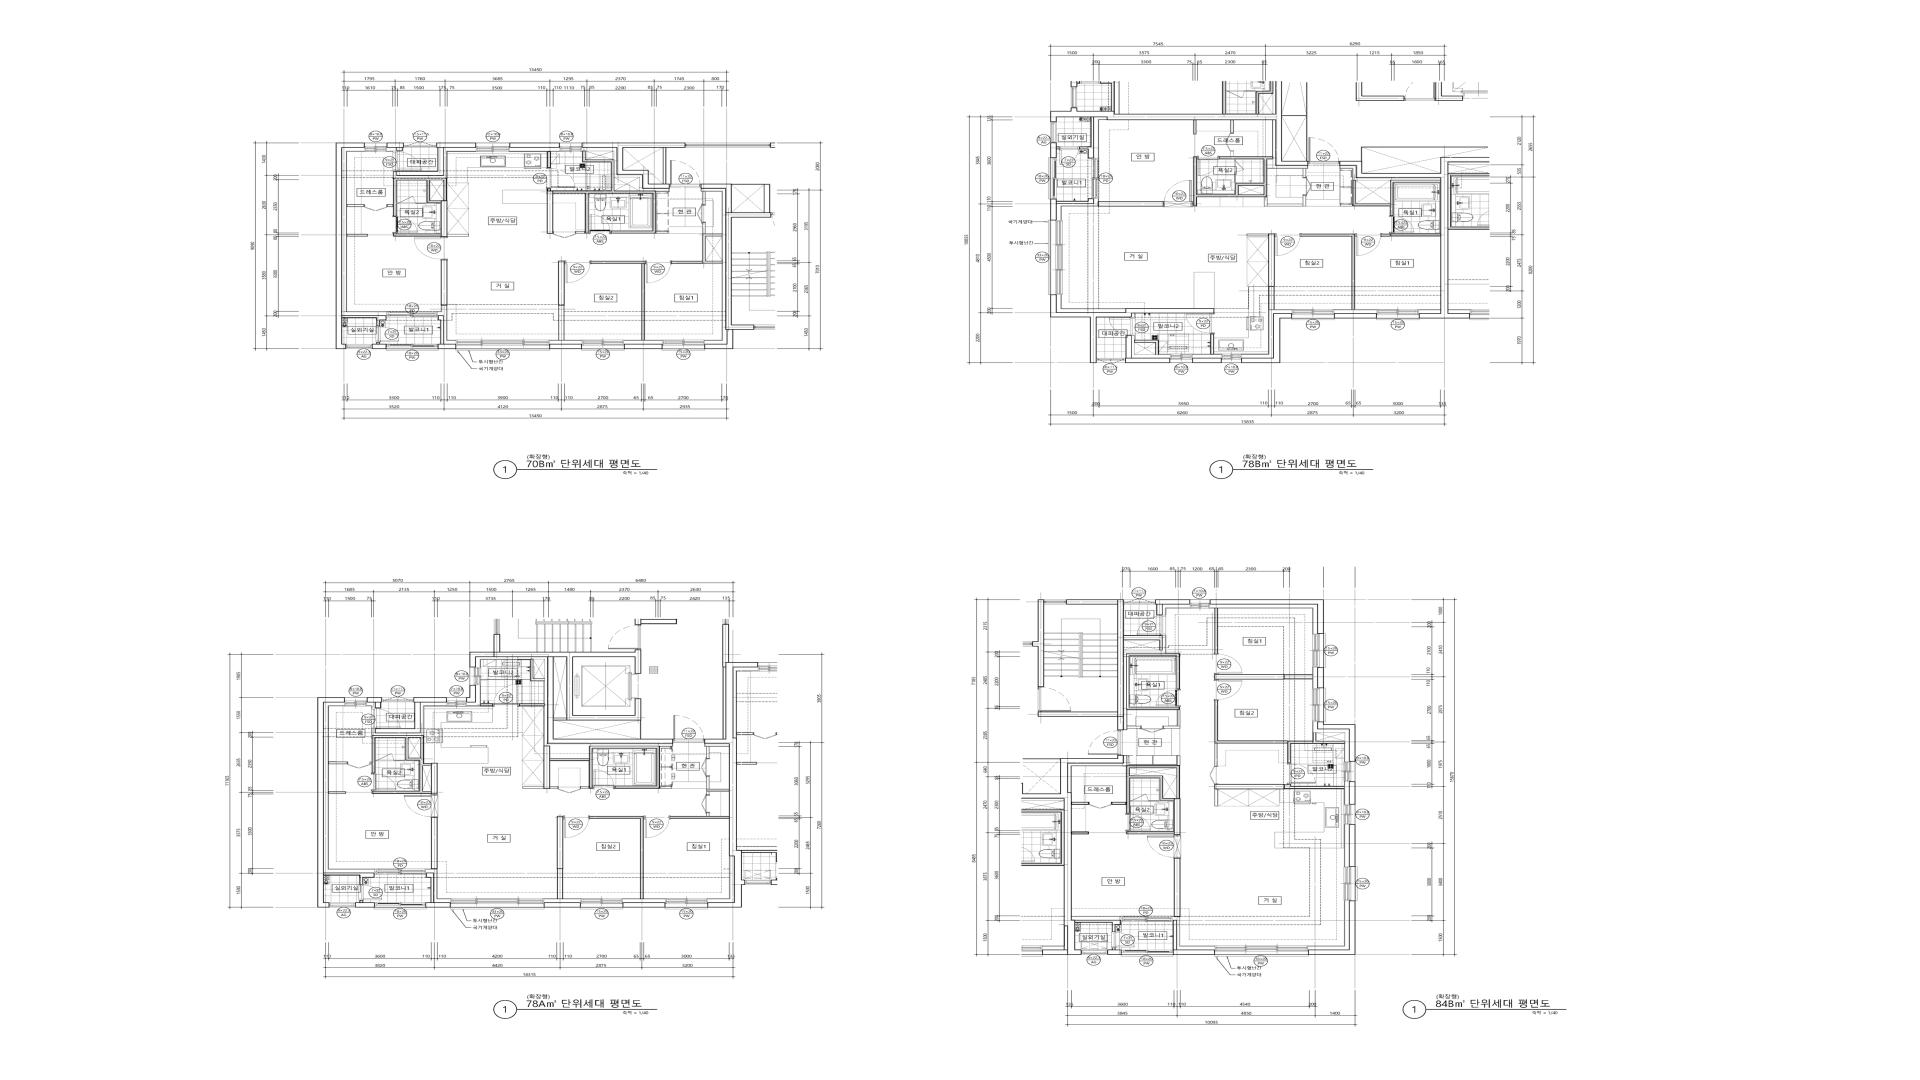door: (1308, 137, 1340, 164), (673, 715, 704, 741), (608, 625, 641, 650), (1088, 731, 1121, 756), (1038, 687, 1071, 712), (404, 794, 438, 818), (1163, 181, 1193, 207), (669, 161, 700, 186), (1147, 835, 1180, 858), (1137, 615, 1166, 636), (1275, 233, 1302, 256), (1356, 233, 1382, 256), (644, 816, 670, 839), (563, 816, 589, 839), (493, 684, 520, 707), (645, 261, 671, 284), (564, 261, 591, 284), (1288, 764, 1316, 785), (1215, 679, 1242, 700), (547, 167, 575, 189), (1185, 314, 1215, 334), (372, 708, 400, 728), (1215, 654, 1242, 674), (393, 152, 421, 171), (1126, 814, 1151, 832), (1109, 318, 1135, 335), (1197, 157, 1220, 175), (592, 770, 615, 789), (588, 215, 611, 233), (1390, 216, 1414, 233), (372, 774, 396, 791), (1156, 690, 1180, 707), (393, 216, 417, 233), (1059, 146, 1079, 165), (360, 885, 382, 901), (1112, 932, 1134, 948), (377, 326, 398, 342), (553, 231, 576, 239), (1225, 133, 1234, 152), (347, 762, 371, 769), (558, 786, 580, 793), (1141, 727, 1163, 733), (1089, 802, 1112, 808), (364, 204, 386, 211), (702, 758, 709, 777), (1209, 766, 1217, 785), (1130, 794, 1149, 802), (698, 204, 705, 223), (1303, 178, 1311, 195), (702, 795, 709, 812), (376, 753, 393, 761), (397, 196, 415, 203), (1234, 160, 1244, 171)
wall: (469, 634, 673, 744), (1051, 82, 1308, 166), (670, 624, 741, 907), (476, 657, 673, 758), (1340, 157, 1448, 319), (1038, 600, 1163, 731), (1060, 756, 1124, 955), (318, 698, 375, 907), (700, 183, 771, 349), (1051, 294, 1215, 363), (335, 142, 386, 349), (547, 150, 657, 233), (323, 703, 375, 873), (1215, 700, 1345, 764), (342, 148, 386, 315), (543, 746, 659, 789), (582, 142, 686, 189), (1112, 766, 1180, 835), (589, 816, 644, 899), (591, 261, 645, 340), (1302, 233, 1356, 310), (1124, 636, 1166, 731), (1209, 600, 1324, 634), (1193, 157, 1274, 206), (702, 189, 727, 344), (582, 148, 670, 191), (372, 736, 438, 794), (1211, 604, 1317, 634), (393, 178, 447, 236), (1126, 654, 1180, 709), (397, 142, 476, 175), (375, 698, 447, 733), (1308, 901, 1356, 955), (393, 148, 476, 178), (1241, 314, 1292, 363), (372, 703, 447, 736), (1241, 310, 1292, 357), (1267, 120, 1308, 178), (1068, 756, 1127, 793), (1308, 901, 1349, 949), (1317, 721, 1356, 762), (1312, 721, 1349, 762), (1340, 166, 1441, 181), (1172, 920, 1215, 955), (1172, 916, 1215, 949), (1056, 294, 1126, 313), (708, 856, 735, 903), (1125, 335, 1170, 363), (550, 306, 582, 344), (1282, 115, 1307, 161), (1033, 600, 1044, 687), (1051, 199, 1095, 220), (1131, 335, 1170, 359), (1056, 199, 1098, 220), (426, 873, 451, 907), (426, 869, 451, 902), (1215, 785, 1345, 790), (438, 306, 455, 344), (438, 315, 455, 349), (556, 816, 563, 899), (1155, 600, 1191, 615), (1215, 674, 1312, 679), (1269, 233, 1275, 310), (1095, 117, 1106, 158), (1265, 195, 1307, 206), (705, 236, 723, 261), (707, 777, 729, 795), (1174, 858, 1180, 918), (704, 744, 729, 758), (1134, 340, 1159, 355), (1097, 202, 1163, 207), (431, 818, 438, 869), (1163, 709, 1180, 729), (530, 659, 545, 680), (440, 260, 447, 306), (467, 684, 480, 707), (430, 181, 443, 203), (558, 261, 564, 306), (1163, 604, 1191, 615), (1349, 824, 1356, 866), (634, 618, 676, 625), (509, 142, 559, 148), (409, 737, 421, 758), (622, 902, 665, 907), (1344, 824, 1349, 866), (1335, 314, 1377, 319), (624, 344, 662, 349), (509, 148, 559, 152), (543, 902, 580, 907), (1072, 916, 1121, 920), (1215, 608, 1218, 654), (467, 684, 476, 703), (1335, 310, 1377, 314), (367, 698, 382, 708), (622, 899, 665, 903), (550, 344, 582, 349), (386, 142, 404, 152), (1192, 357, 1221, 363), (624, 340, 662, 344), (1349, 782, 1356, 804), (1050, 142, 1059, 158), (1317, 667, 1324, 688), (355, 901, 375, 907), (1344, 782, 1349, 804), (1192, 353, 1221, 357), (372, 342, 386, 349), (1312, 667, 1317, 688), (543, 899, 580, 902), (663, 148, 666, 183), (1419, 310, 1441, 314), (1108, 948, 1121, 955), (671, 261, 703, 264), (1215, 790, 1218, 807), (520, 704, 545, 707), (547, 152, 551, 167), (1215, 744, 1217, 766), (1247, 233, 1269, 236), (522, 786, 543, 789), (1230, 120, 1234, 133), (1211, 334, 1213, 353), (367, 703, 375, 708), (732, 183, 764, 185), (386, 148, 397, 152), (1193, 120, 1196, 135), (480, 704, 493, 707), (554, 717, 567, 720), (659, 786, 671, 789), (657, 231, 669, 233), (1178, 756, 1180, 766), (447, 235, 468, 236), (580, 786, 589, 789), (640, 720, 641, 738), (576, 231, 585, 233), (1230, 152, 1234, 157), (550, 786, 558, 789), (1340, 204, 1353, 206), (386, 204, 393, 207), (1234, 171, 1236, 183), (1131, 314, 1135, 318), (393, 760, 405, 761), (1149, 800, 1159, 802), (707, 812, 709, 816), (371, 762, 372, 765), (415, 203, 426, 203)
window: (1048, 220, 1063, 294), (450, 899, 545, 910), (455, 340, 550, 351), (1215, 945, 1308, 956), (665, 898, 708, 910), (375, 869, 426, 878), (1344, 866, 1357, 901), (580, 899, 622, 910), (1377, 310, 1419, 320), (1292, 310, 1335, 320), (582, 340, 624, 351), (662, 340, 704, 351), (1312, 634, 1325, 667), (1312, 688, 1325, 721), (375, 902, 426, 910), (386, 344, 438, 351), (386, 311, 438, 318), (1048, 158, 1056, 199), (476, 142, 509, 152), (1121, 951, 1174, 956), (1121, 916, 1172, 922), (1092, 158, 1098, 199), (1344, 762, 1356, 782), (1344, 804, 1356, 824), (404, 141, 436, 148), (381, 696, 413, 703), (1170, 353, 1192, 363), (344, 698, 367, 707), (364, 142, 386, 152), (559, 142, 582, 152), (1221, 353, 1241, 363), (447, 698, 467, 707), (469, 667, 480, 684), (1124, 599, 1155, 604), (1191, 600, 1211, 608), (1097, 359, 1125, 364), (345, 344, 372, 349), (1051, 123, 1056, 142), (1081, 951, 1108, 955), (330, 903, 355, 907), (1044, 600, 1067, 604)
